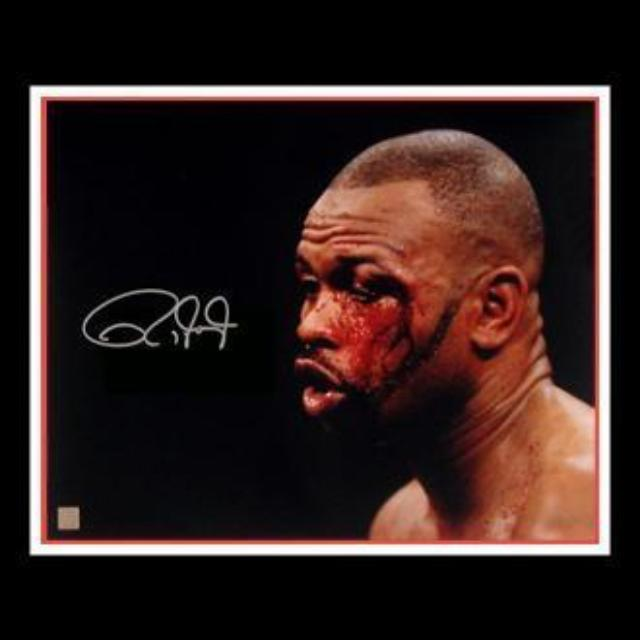blood: (305, 264, 482, 426)
